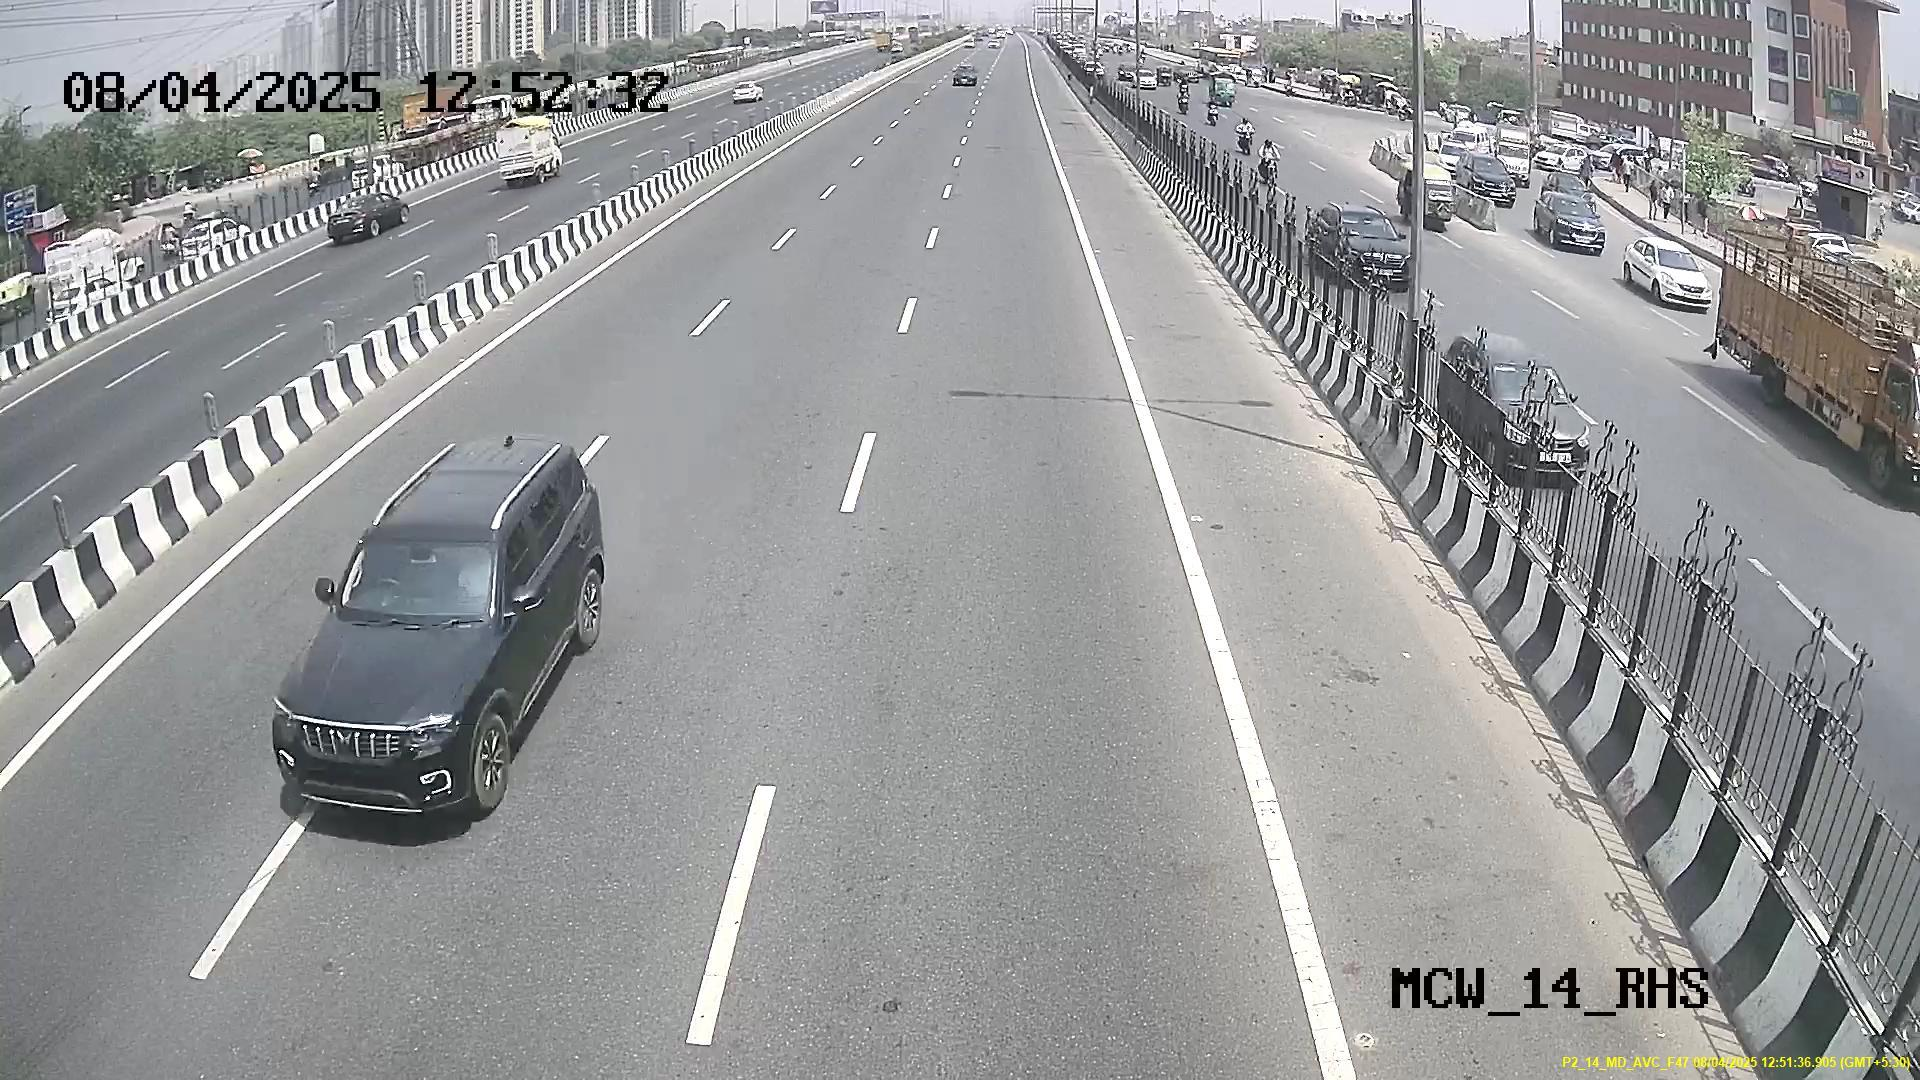car: (268, 493, 539, 829)
